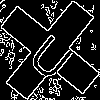U: (25, 25, 82, 84)
